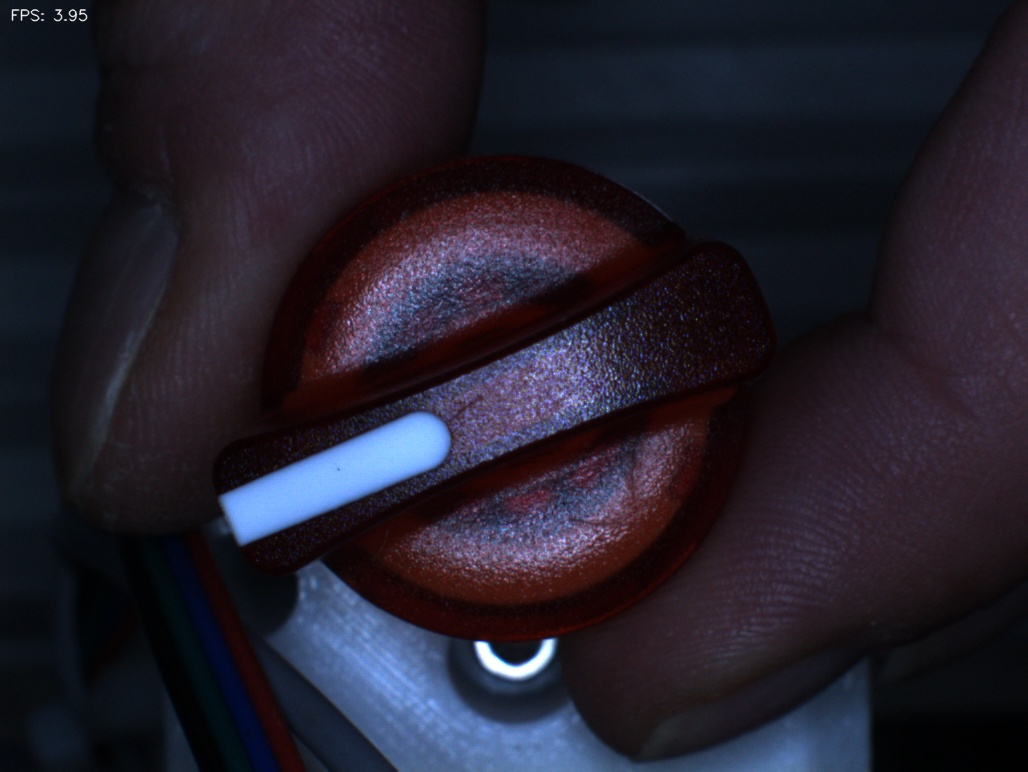PointNoir: (301, 439, 380, 507)
